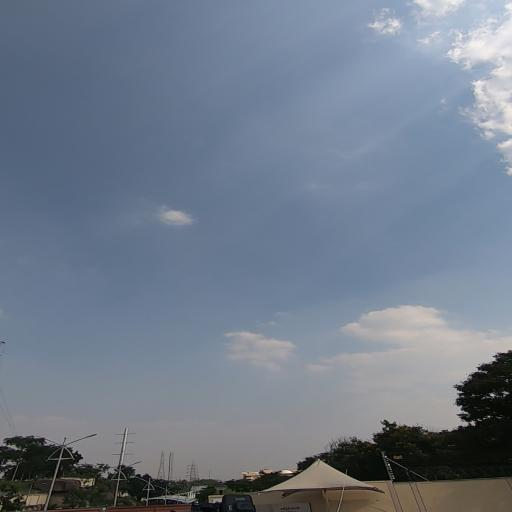Street_light: (31, 434, 60, 445), (68, 434, 102, 442)
